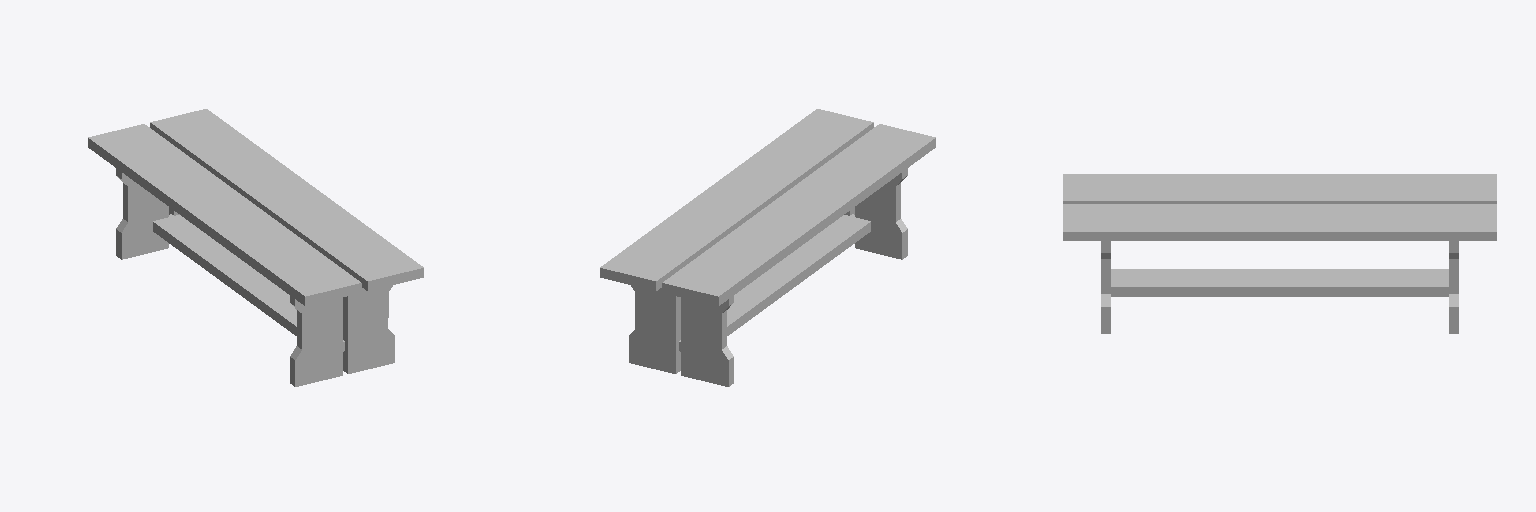
File: ti_banc.obj
3 views of the same model, side by side, from view 1: azimuth 30°, elevation 25°; view 2: azimuth 150°, elevation 25°; view 3: azimuth 270°, elevation 25° (orthographic).
Parts seen in each view (by area): view 1: Cube.004, Cube.002; view 2: Cube.004, Cube.002; view 3: Cube.004, Cube.002.
Part boxes in pixels (x1,y1,x2,y2): Cube.004: (88,109,423,351); Cube.002: (116,168,394,386); Cube.004: (600,109,935,351); Cube.002: (629,168,907,386); Cube.004: (1063,174,1496,296); Cube.002: (1101,241,1458,333).
Bounding box in the file's own units: 0.3155 × 0.2709 × 1.